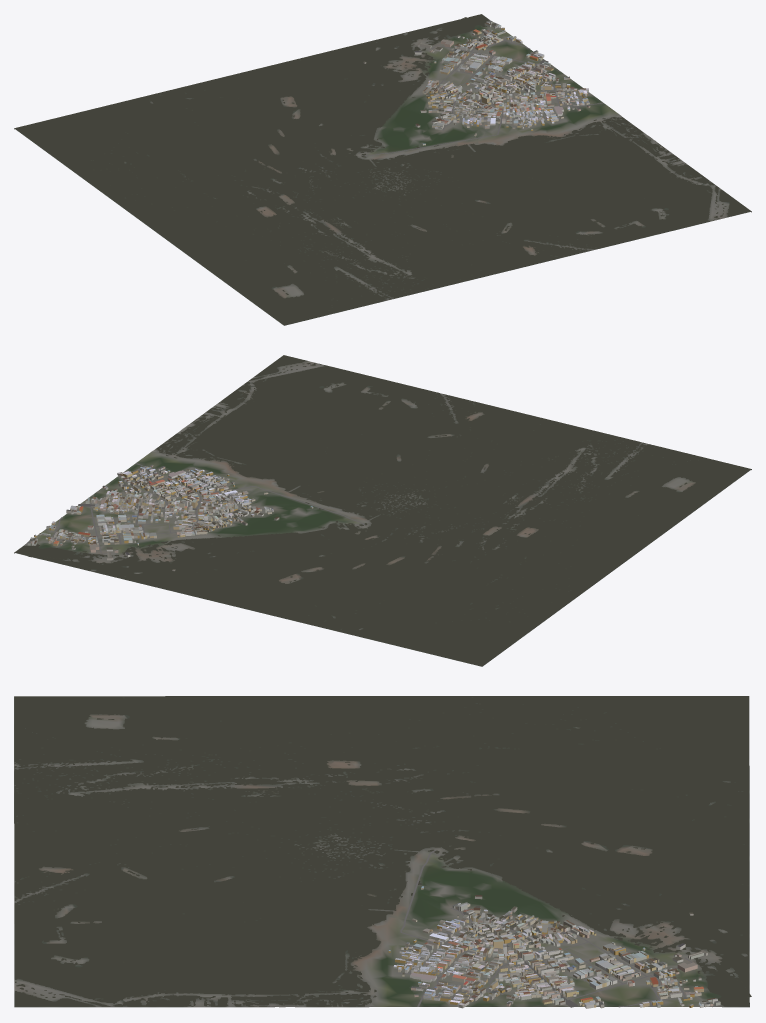
3 renders of one model, top to bottom at view 1: azimuth 30°, elevation 25°; view 2: azimuth 150°, elevation 25°; view 3: azimuth 270°, elevation 25°, orthographic. The views are drawn at different scales.
Visible parts, largest first — view 1: water, ground, buildings, roads; view 2: water, ground, buildings, roads; view 3: water, ground, buildings, roads.
Part boxes in pixels (x1,y1,x2,y2): water: [15, 14, 750, 325]; ground: [14, 17, 751, 325]; buildings: [363, 20, 590, 145]; roads: [361, 36, 603, 156]; water: [15, 355, 750, 666]; ground: [14, 356, 751, 666]; buildings: [27, 464, 313, 571]; roads: [26, 463, 364, 553]; water: [14, 696, 751, 1006]; ground: [14, 696, 749, 1007]; buildings: [388, 886, 720, 1008]; roads: [396, 850, 720, 1007].
Bounding box in the file's own units: 1410 × 20.3 × 1405.
